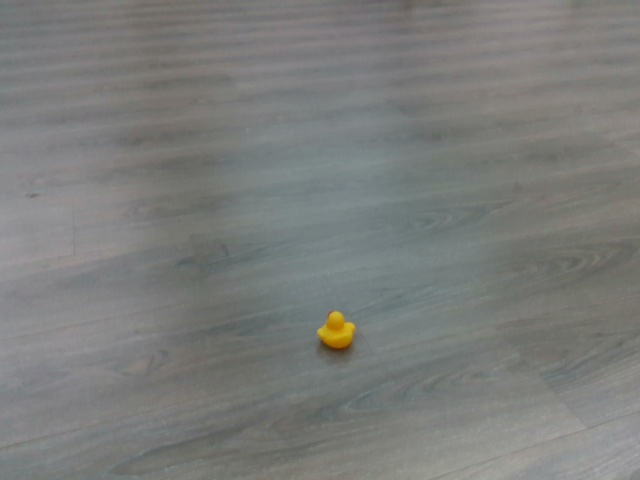duck: (313, 305, 360, 350)
